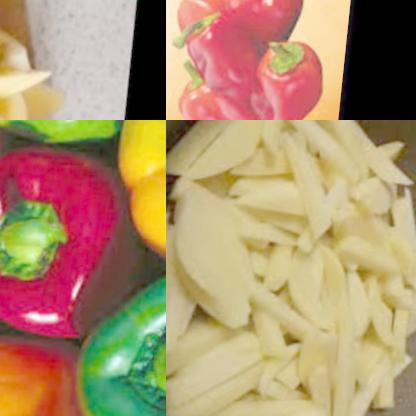bell pepper: (0, 135, 158, 349), (64, 261, 166, 416), (0, 328, 131, 416), (100, 120, 166, 275), (188, 12, 269, 101), (256, 32, 335, 120), (178, 57, 281, 120), (217, 0, 323, 53), (0, 120, 152, 147), (174, 0, 238, 47)
potato: (166, 120, 416, 416), (0, 0, 103, 120)
